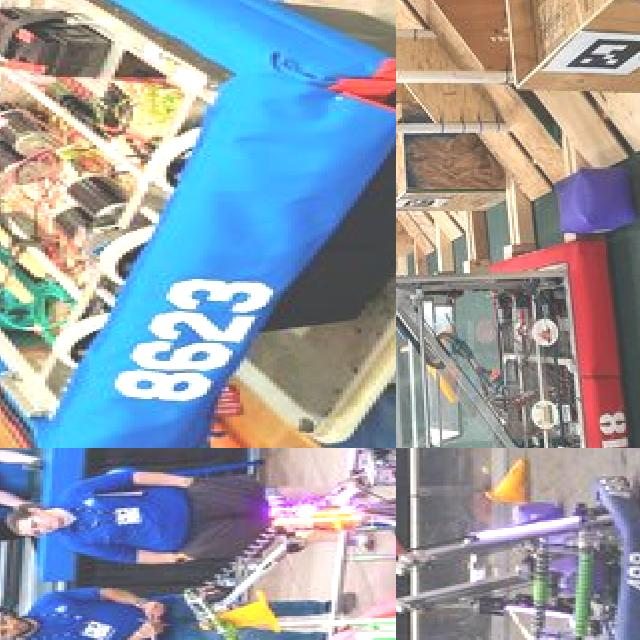FRC-Robots: (0, 0, 396, 448), (396, 33, 639, 448), (396, 457, 640, 640), (168, 448, 396, 640)
